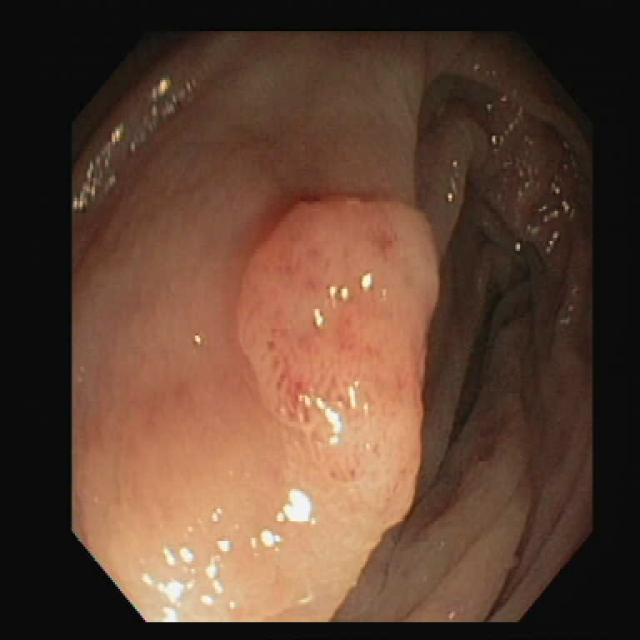tumor: (238, 200, 438, 547)
